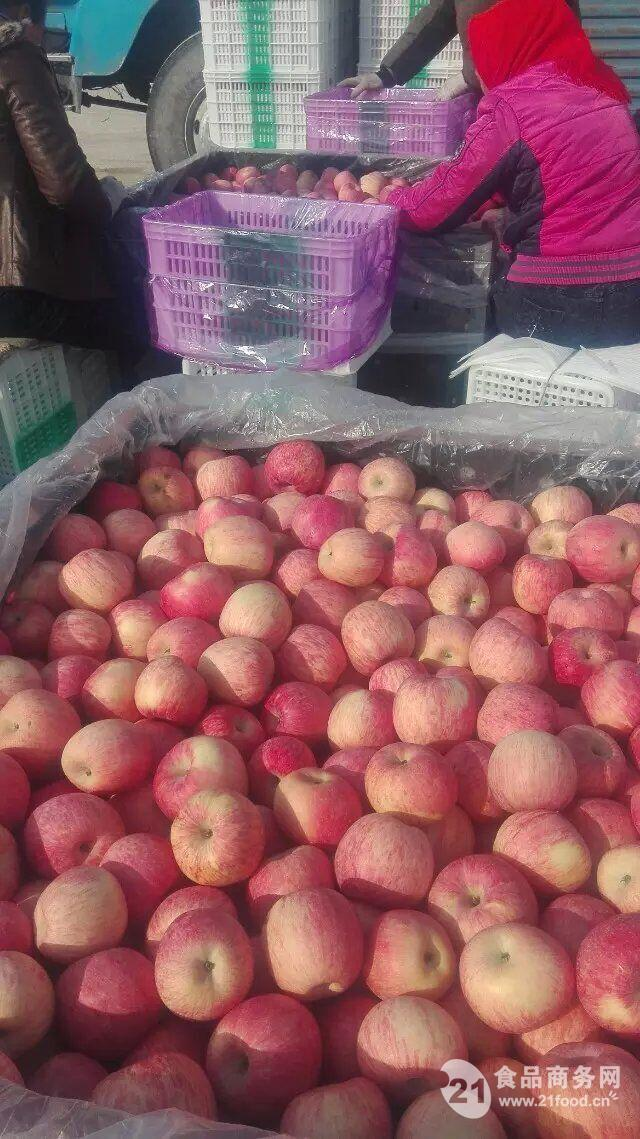apple: (457, 924, 575, 1030), (211, 987, 320, 1099), (263, 886, 365, 997), (154, 906, 256, 1017), (168, 786, 271, 884), (333, 809, 436, 907), (32, 863, 135, 961), (56, 949, 159, 1047), (355, 995, 462, 1087), (364, 906, 458, 1001), (431, 854, 538, 936), (23, 794, 124, 876), (152, 735, 253, 817), (576, 907, 640, 1035), (494, 809, 589, 893), (487, 730, 574, 812), (271, 766, 360, 846), (60, 717, 153, 792), (365, 741, 457, 816), (1, 687, 78, 774), (392, 672, 478, 743), (133, 656, 211, 726), (197, 637, 277, 705), (564, 513, 638, 586), (341, 599, 415, 672), (56, 547, 131, 611), (476, 681, 561, 736), (199, 513, 270, 575), (221, 580, 290, 640), (318, 526, 387, 586), (549, 626, 618, 684), (427, 567, 494, 626), (159, 562, 227, 615), (514, 554, 575, 613), (414, 615, 477, 672), (263, 438, 324, 496), (547, 585, 619, 634), (440, 522, 505, 571), (470, 499, 538, 542), (357, 456, 412, 503)
